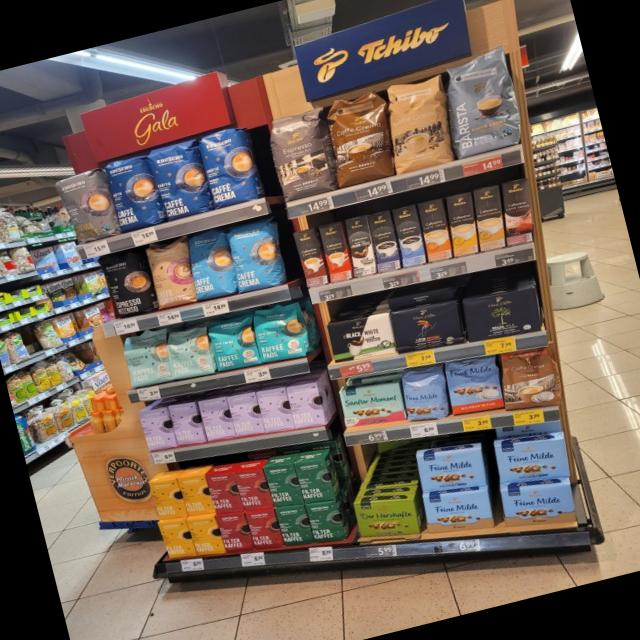BM Gemahlen: (460, 285, 542, 343)
BW Gemahlen: (328, 312, 396, 362)
Barista CC: (434, 48, 530, 160)
CC Mild: (380, 71, 457, 176)
CC Vollmundig: (499, 346, 563, 411)
CC Vollmundig 36 Pads: (323, 86, 395, 191)
Espresso M Art: (262, 106, 342, 203)
FM 36 Pads: (444, 355, 505, 415)
FM Bohne: (400, 366, 449, 422)
FM Gemahlen: (494, 437, 573, 483), (415, 447, 489, 493), (423, 488, 496, 532), (501, 483, 575, 525)
Herzhatfe Mundig: (352, 495, 422, 536)
LG Gemahlen: (388, 298, 464, 353)
SM Gemahlen: (337, 380, 408, 426)
Simo CC Colombia: (502, 177, 535, 245)
Simo CCMild bigpack: (444, 191, 479, 256)
Simo CCVollmundig bigpack: (417, 197, 454, 263)
Simo Decaff: (473, 184, 506, 251)
Simo Es Elegant: (317, 219, 355, 283)
Simo Es Kraft: (292, 227, 329, 285)
Simo Kaffee BW: (344, 213, 378, 279)
Simo Kaffee Kraft: (366, 208, 404, 273)
Simo Kaffee Mild: (391, 203, 428, 268)
